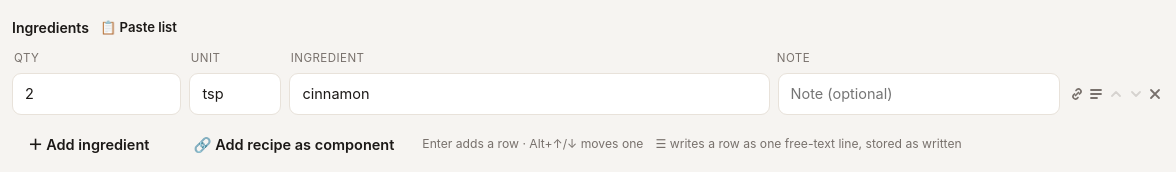
Test: IngredientRows undo + reorder safety › toggling into the lane carries the typed text across
Click the button named "Write this line as free text".
click(1096, 94)  # box [1088,80,1105,108]
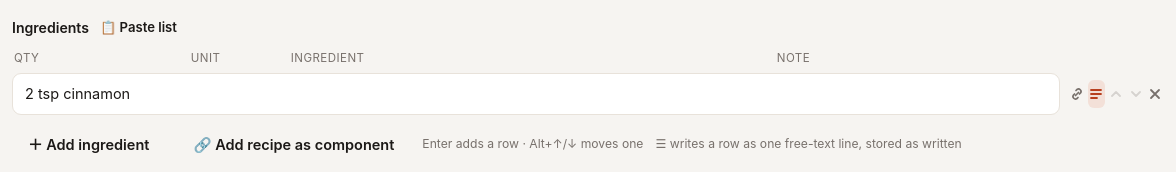
Expected: the field with class "ftxt" holds "2 tsp cinnamon", [12,73,1060,115]
